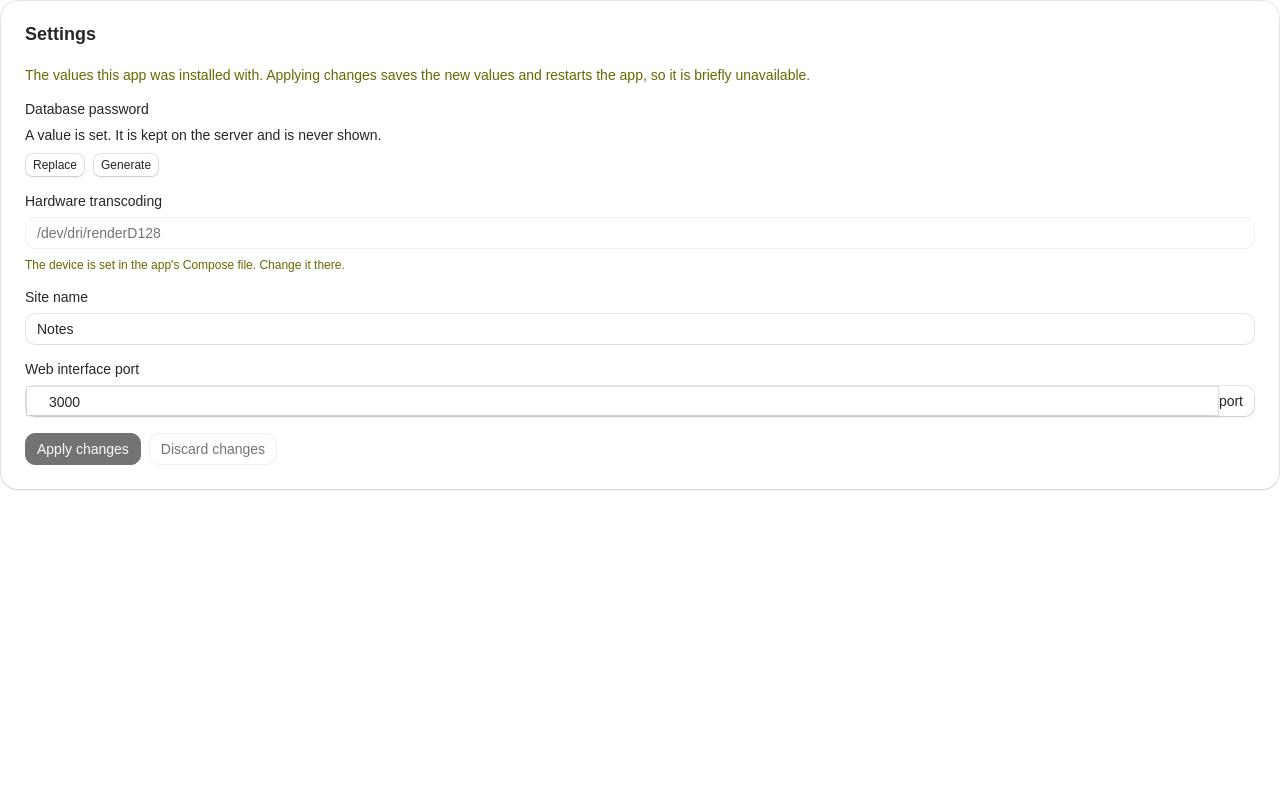
Scenario: Applying › asks first and says the app restarts, then saves only the changed values and starts the stack, in that order
Replace the text in the number field labelled "Web interface port" with "3100" at (622, 402), box [38,387,1207,417]
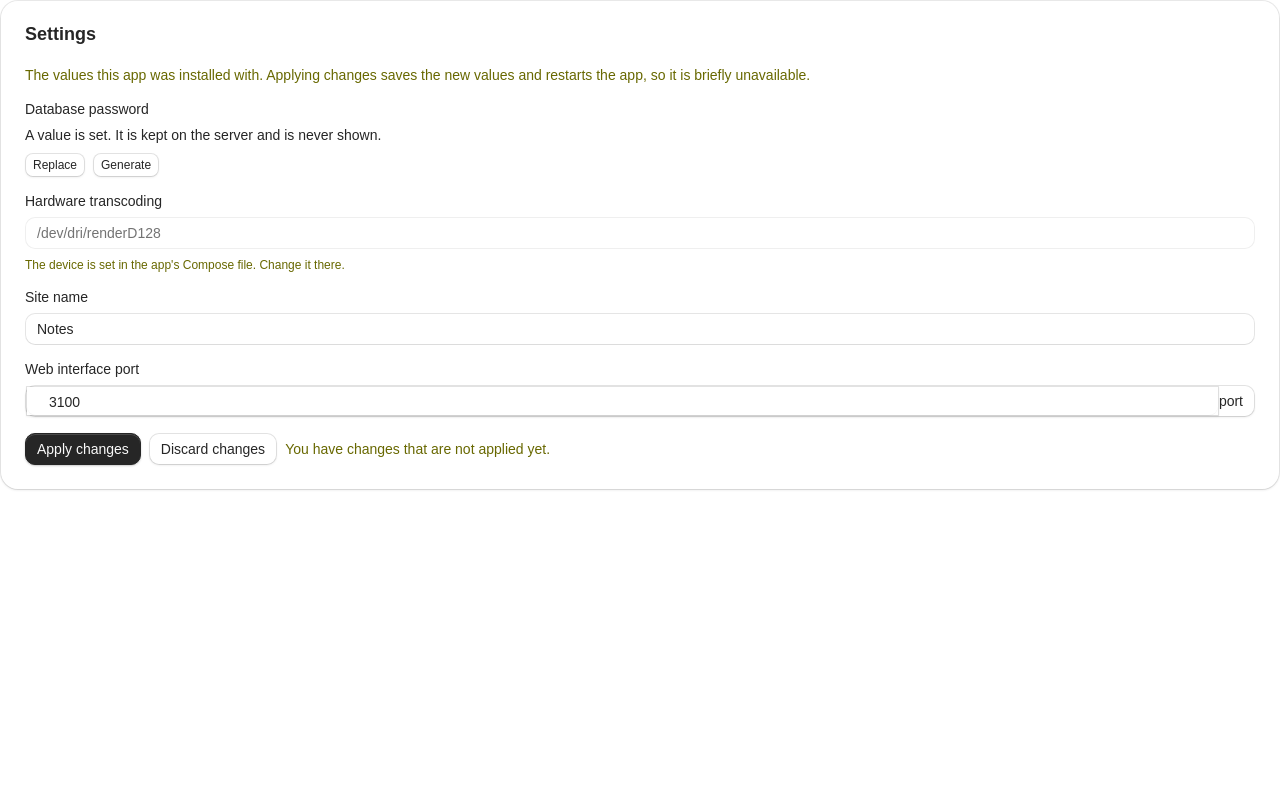
Click the button "Apply changes".
click(83, 449)  # box [25,433,141,465]
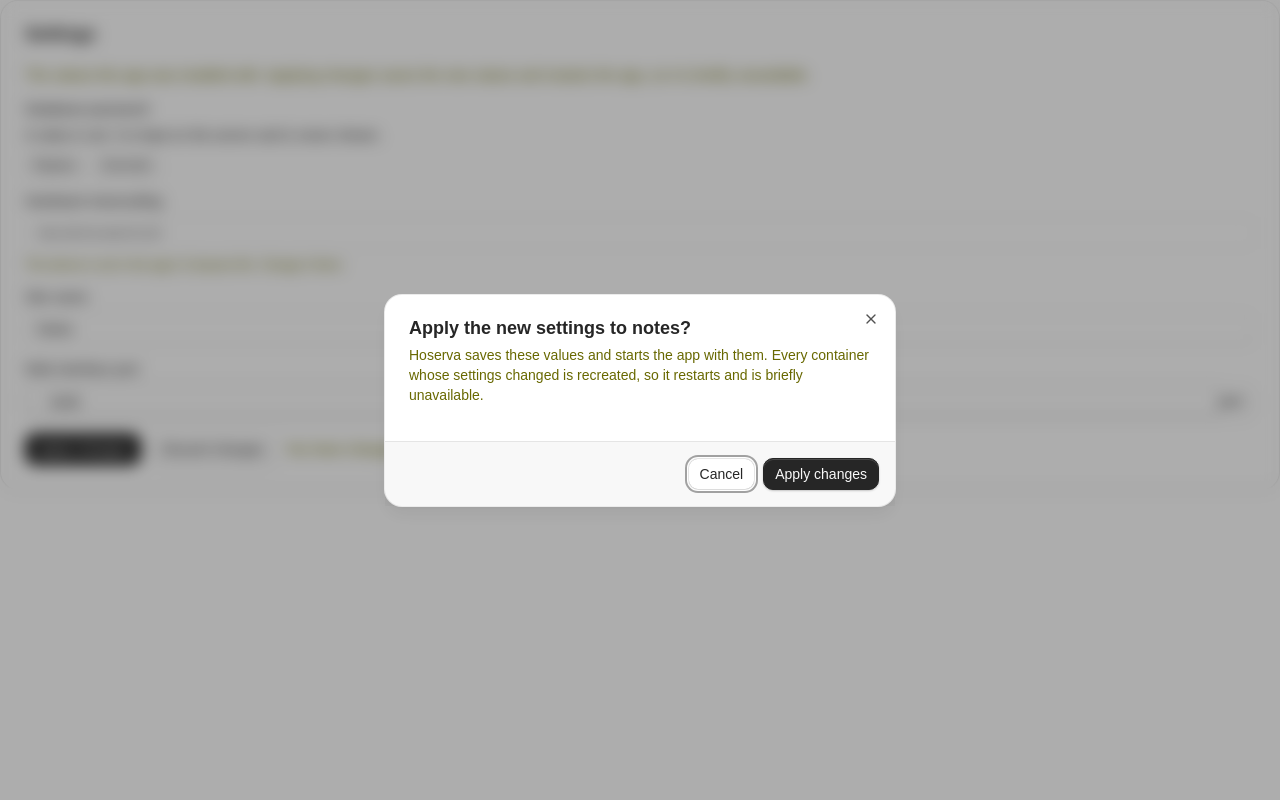
Check: the text "restarts and is briefly unavailable" is shown, box [409,346,869,402]
Click the button "Apply changes".
click(821, 474)  # box [763,458,879,490]
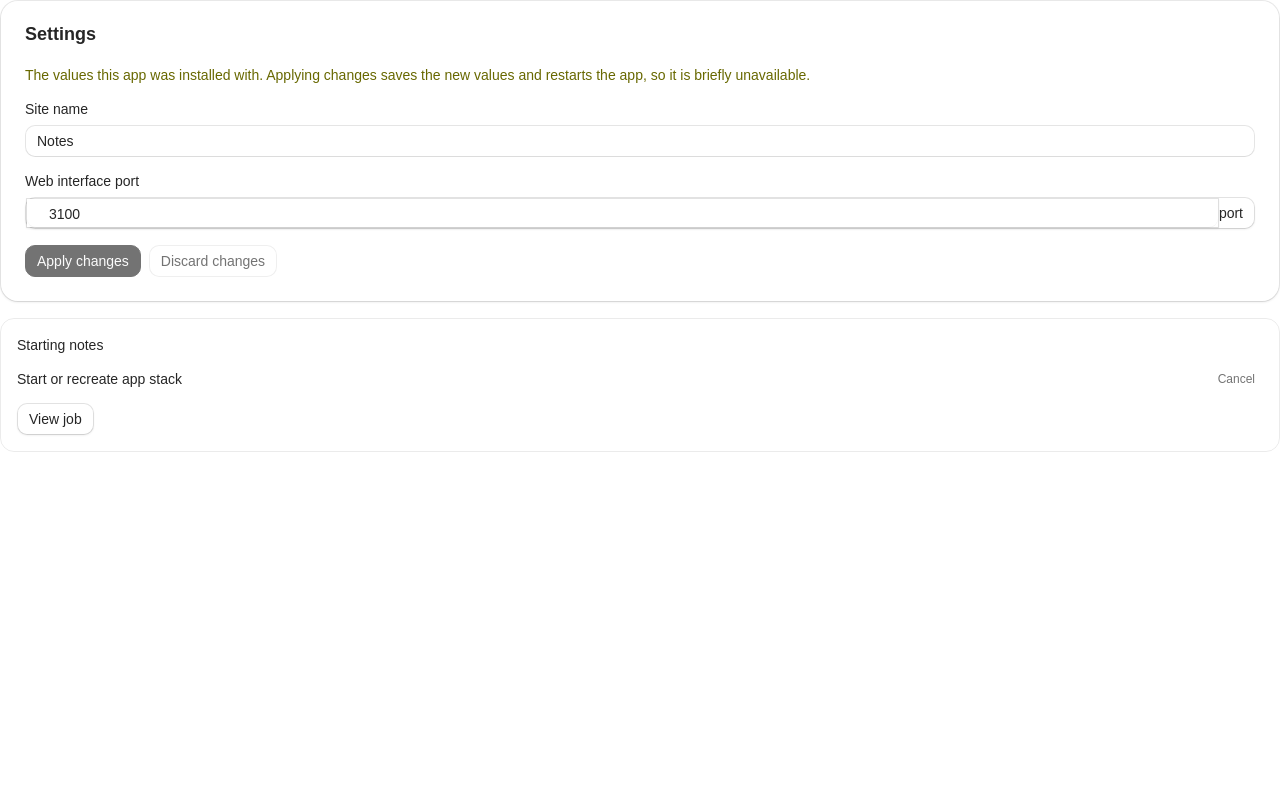
Check: the text "Starting notes" is shown, box [17,337,103,353]
Check: the progress indicator is shown, box [17,367,1263,391]
Check: the button "Apply changes" is disabled, box [25,245,141,277]
